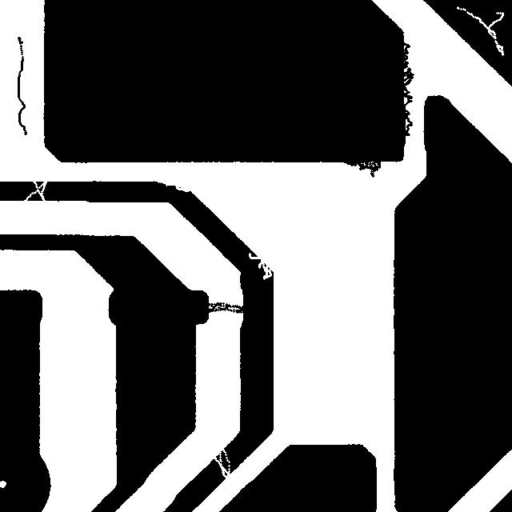copper: (10, 29, 34, 142)
mousebite: (150, 167, 202, 199), (241, 245, 279, 287)
open: (206, 437, 238, 491), (14, 170, 54, 213)
pin-hole: (449, 0, 511, 63)
short: (186, 292, 264, 321)
spur: (390, 34, 422, 146), (332, 138, 388, 185)
